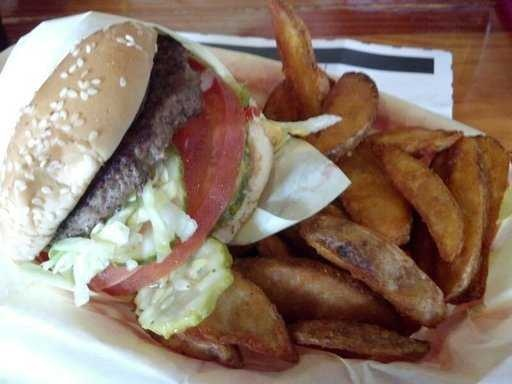hamburger: (1, 42, 235, 271)
